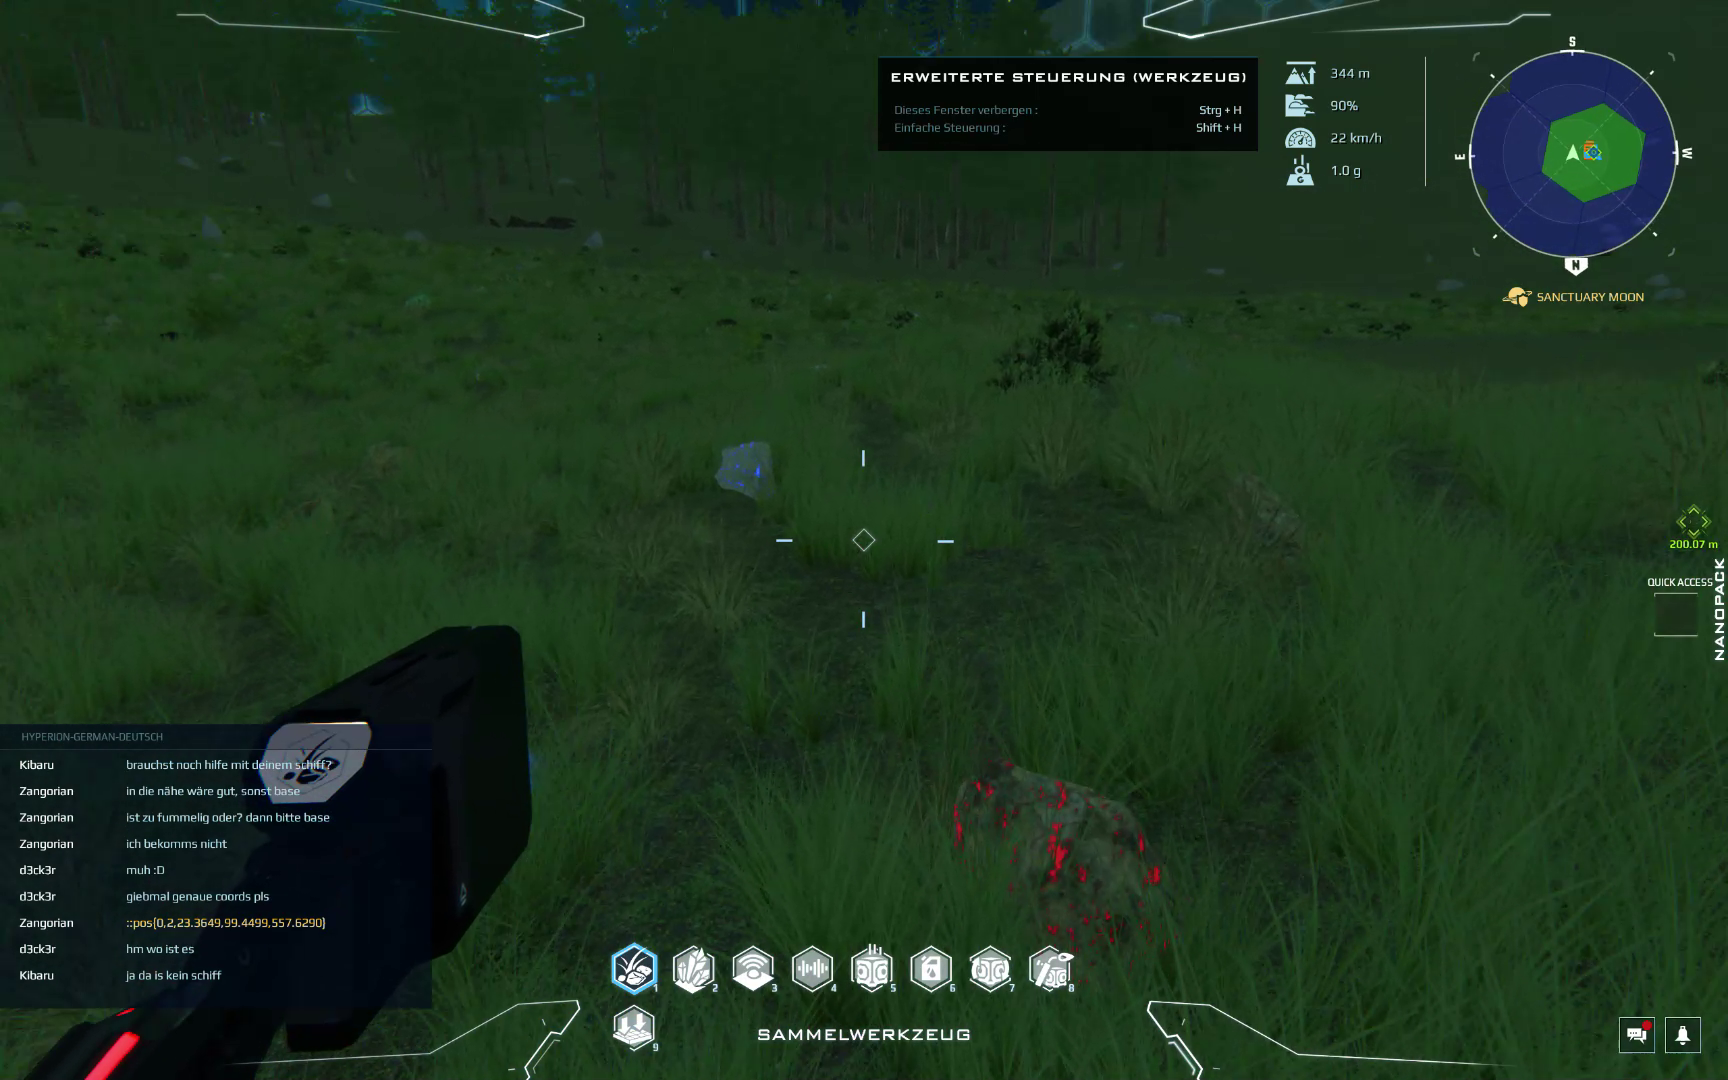Ore: (938, 758, 1181, 975), (712, 439, 781, 501)
